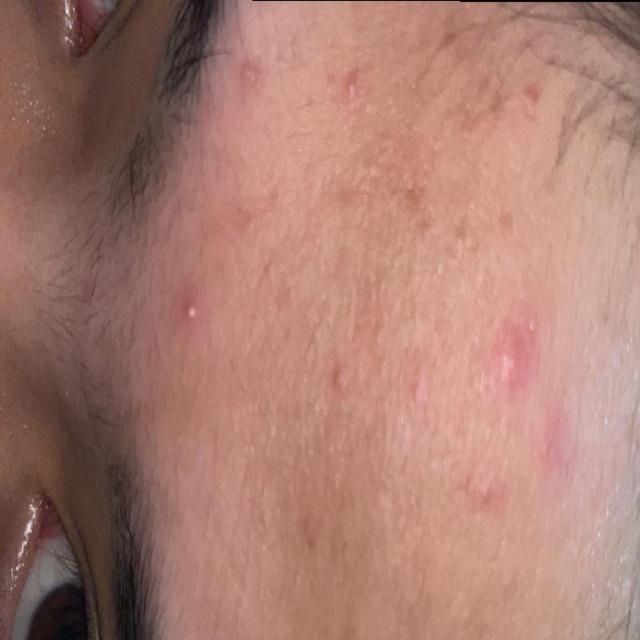papule: (428, 295, 601, 534)
pustule: (174, 285, 211, 334), (338, 73, 364, 110)
